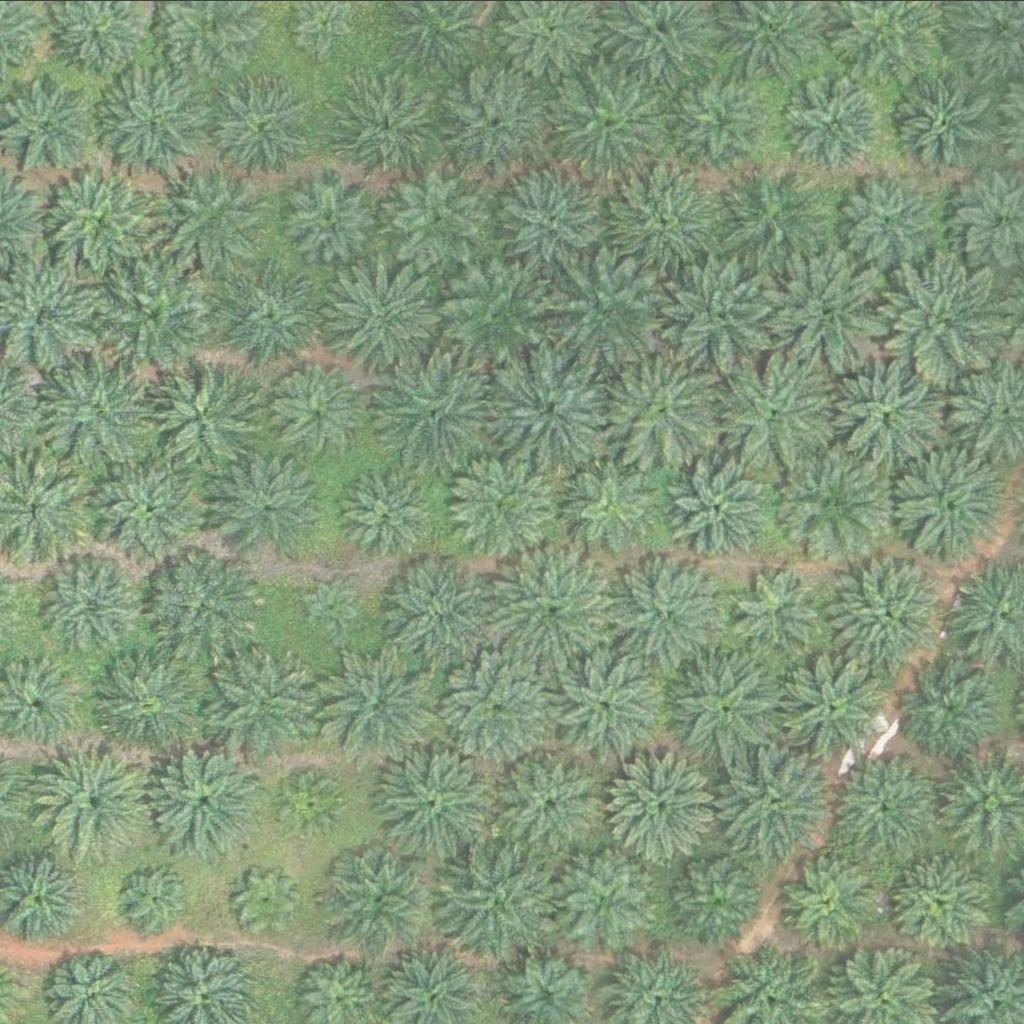Kelapa_Sawit: (436, 260, 550, 373), (372, 354, 486, 467), (216, 448, 330, 561), (546, 253, 660, 366), (41, 744, 154, 857), (101, 62, 214, 175), (47, 161, 160, 274), (46, 350, 159, 463), (145, 359, 258, 472), (494, 354, 607, 467), (97, 450, 210, 563), (318, 651, 431, 764), (441, 647, 554, 760), (152, 742, 265, 855), (378, 745, 491, 858), (608, 745, 721, 858), (553, 652, 666, 765), (667, 649, 780, 762), (772, 648, 885, 761), (832, 554, 945, 667), (891, 444, 1004, 557), (607, 353, 720, 466), (666, 258, 779, 371), (772, 256, 885, 369), (887, 262, 1000, 375), (545, 64, 658, 177), (497, 166, 611, 278), (151, 549, 265, 661), (94, 646, 208, 758), (605, 158, 719, 270), (442, 67, 555, 179), (158, 160, 271, 272), (98, 257, 211, 369), (210, 261, 323, 373), (322, 259, 435, 371), (449, 448, 562, 560), (383, 554, 496, 666), (496, 552, 609, 664), (207, 643, 320, 755), (497, 746, 610, 858), (324, 842, 437, 954), (446, 843, 559, 955), (721, 748, 834, 860), (831, 750, 944, 862), (614, 558, 727, 670), (777, 446, 890, 558), (719, 352, 832, 464), (825, 354, 938, 466), (720, 161, 833, 273), (207, 76, 308, 176), (340, 79, 441, 179), (284, 166, 385, 266), (387, 166, 488, 266), (554, 844, 655, 944), (664, 843, 765, 943), (899, 659, 1000, 759), (732, 559, 833, 659), (554, 455, 655, 555), (665, 459, 766, 559), (837, 169, 938, 269), (898, 67, 999, 167), (43, 552, 143, 652), (266, 362, 366, 462), (335, 464, 435, 564), (779, 845, 879, 945), (891, 849, 991, 949), (785, 72, 885, 172), (682, 78, 770, 166), (279, 771, 342, 834), (125, 863, 188, 926), (236, 868, 299, 931), (299, 575, 362, 637)
